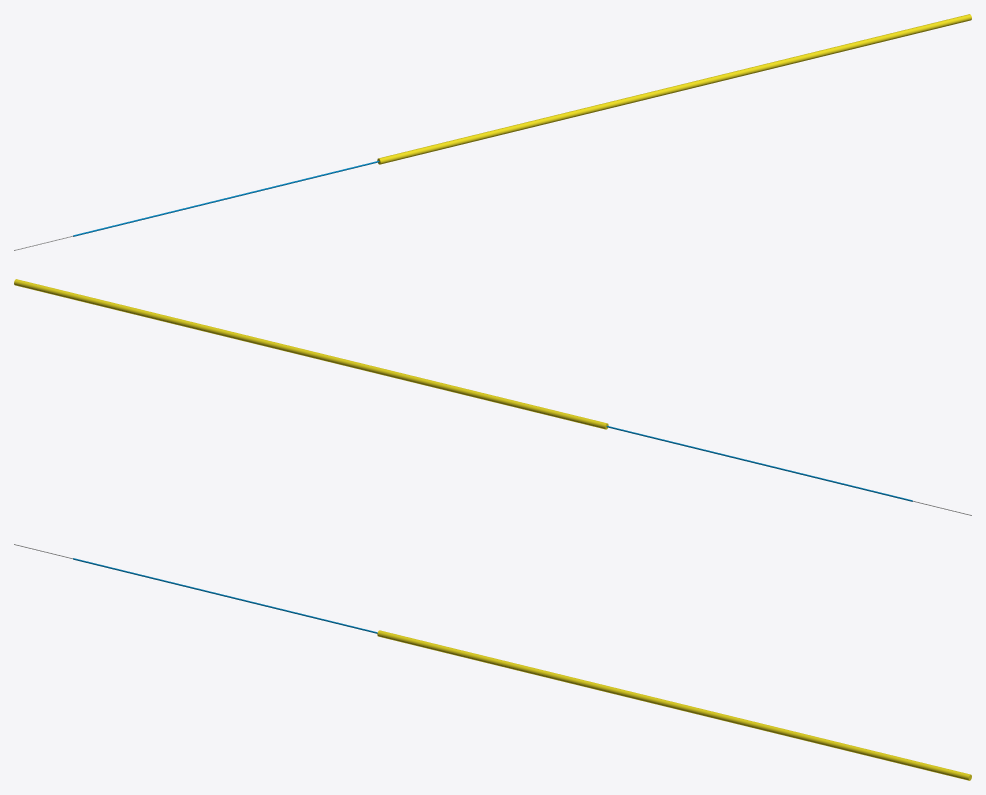
The model's file is fiber_optic_patch_cord.gltf.
3 renders of one model, top to bottom at view 1: azimuth 30°, elevation 25°; view 2: azimuth 150°, elevation 25°; view 3: azimuth 330°, elevation 25°, orthographic.
Parts seen in each view (by area): view 1: Cylinder; view 2: Cylinder; view 3: Cylinder.
Part boxes in pixels (box(x1,y1,x2,y2)): Cylinder: box(14, 14, 971, 250); Cylinder: box(14, 279, 971, 515); Cylinder: box(14, 544, 971, 780).
Size of the model in its own units: 0.3355 by 0.0019 by 0.002.
